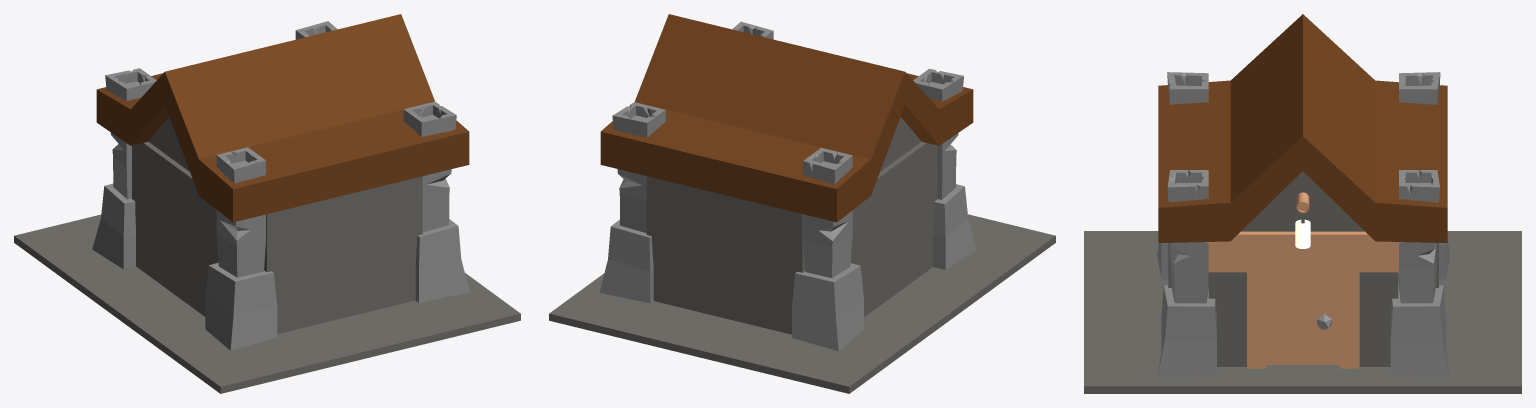
Rendered from House.glb.
3 views of the same model, side by side, from view 1: azimuth 30°, elevation 25°; view 2: azimuth 150°, elevation 25°; view 3: azimuth 270°, elevation 25° (orthographic). The views are drawn at different scales.
Visible parts, largest first — view 1: Cube.041, Cube.039, Cube.040, Cube.038, Cube.036, Cube.035, Cube.037; view 2: Cube.041, Cube.039, Cube.040, Cube.038, Cube.036, Cube.035, Cube.037; view 3: Cube.041, Cube.039, Cube.035, Cube.042, Cube.046, Cube.047, Cube.044, Cube.045, Cube.038, Cylinder.003.
Part boxes in pixels (x1,y1,x2,y2): Cube.041: (96,14,469,222); Cube.039: (14,214,520,393); Cube.040: (264,176,422,333); Cube.038: (92,68,277,350); Cube.036: (132,141,218,316); Cube.035: (295,21,469,302); Cube.037: (148,116,189,171); Cube.041: (600,14,973,222); Cube.039: (549,214,1055,393); Cube.040: (646,176,805,334); Cube.038: (792,68,976,351); Cube.036: (850,141,937,317); Cube.035: (599,21,773,303); Cube.037: (880,117,921,171); Cube.041: (1158,14,1447,242); Cube.039: (1084,231,1521,393); Cube.035: (1157,170,1449,377); Cube.042: (1208,231,1398,272); Cube.046: (1266,272,1339,364); Cube.047: (1208,272,1398,366); Cube.044: (1247,272,1358,368); Cube.045: (1241,171,1364,231); Cube.038: (1157,72,1450,279); Cylinder.003: (1295,219,1310,248).
Bounding box in the file's own units: 19.14 × 14.32 × 22.79.
